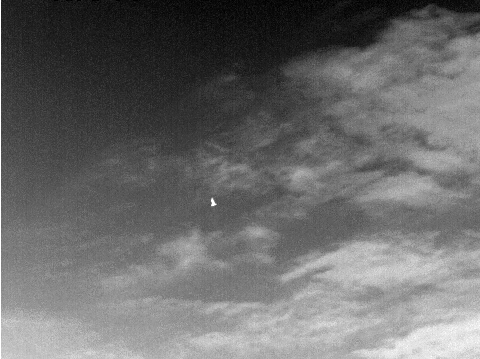dim target: (209, 196, 218, 207)
